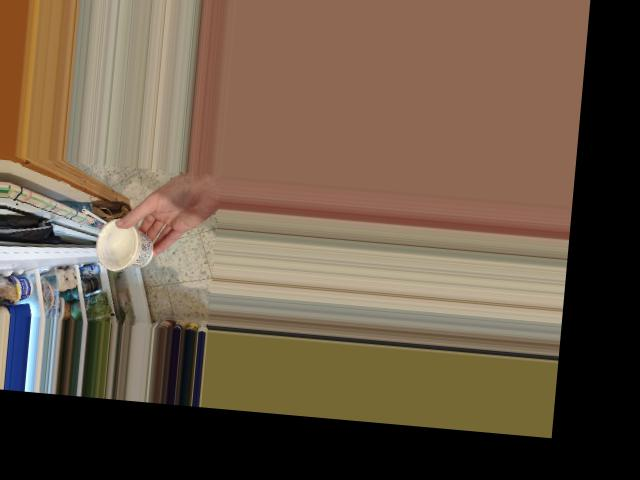cotage: (97, 223, 155, 272)
